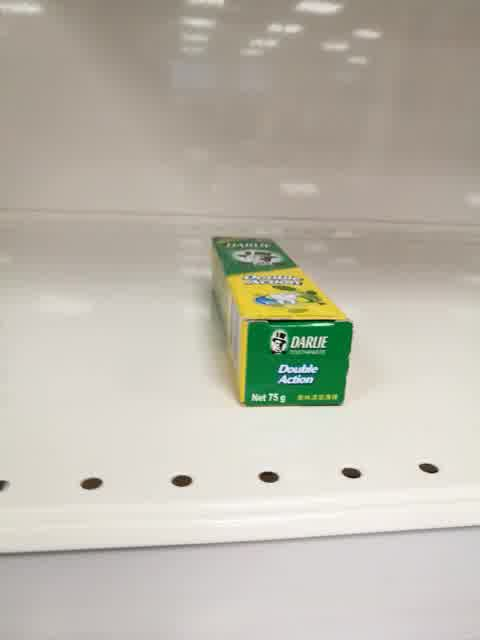toothpaste: (210, 235, 353, 409)
